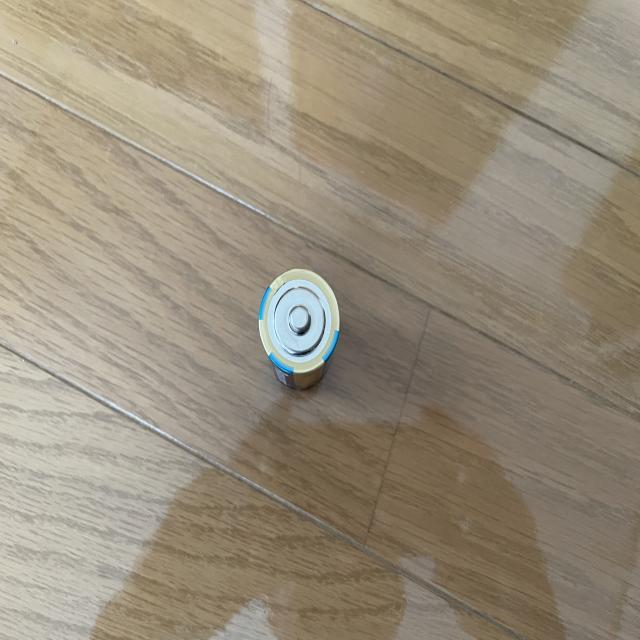hazardous waste: (251, 262, 349, 399)
